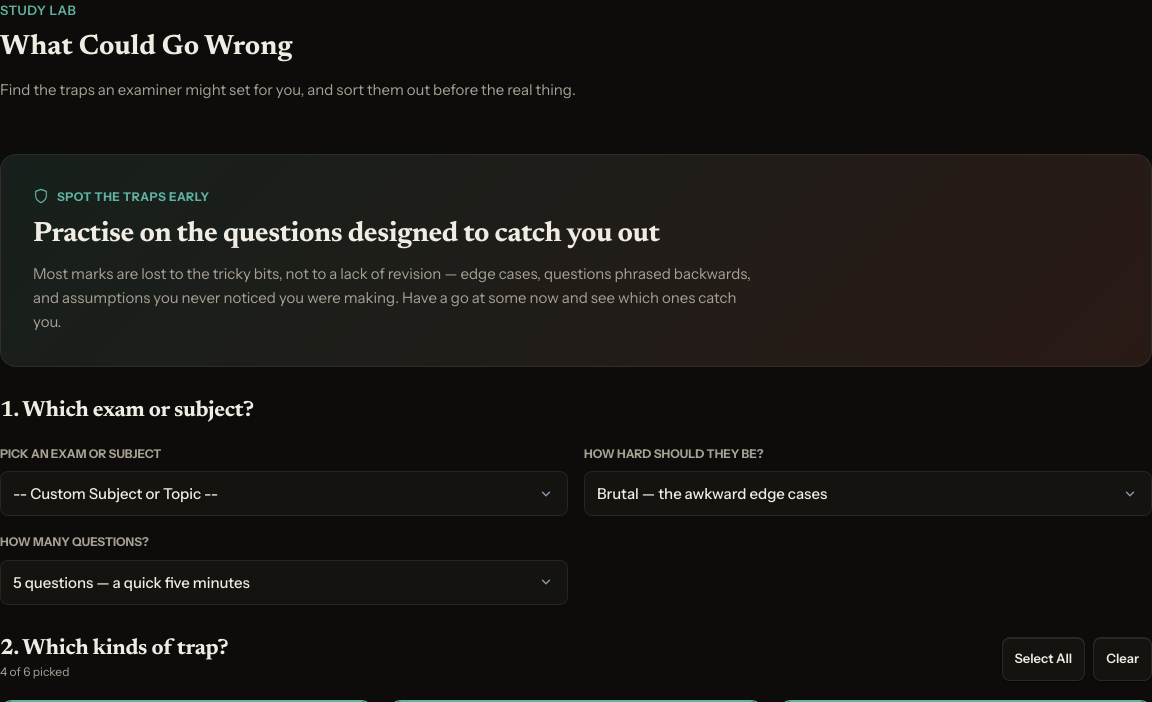
PreMortemHubView › allows toggling trap types, select all, and clear
// Click Clear
Click the button "Clear": (1123, 659) [1093,637,1151,681]
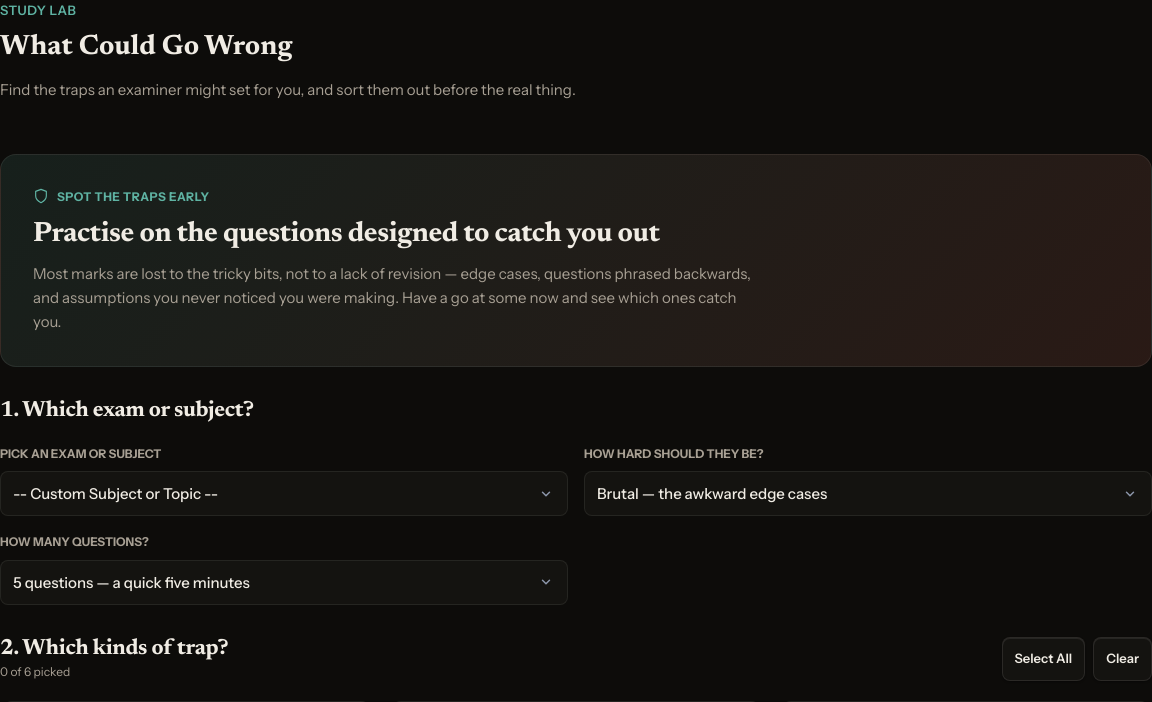
Expected: the text "0 of 6 picked" is shown, [0,664,70,679]
// Click Select All
Click the button "Select All": (1043, 659) [1002,637,1085,681]
(page scrolled)
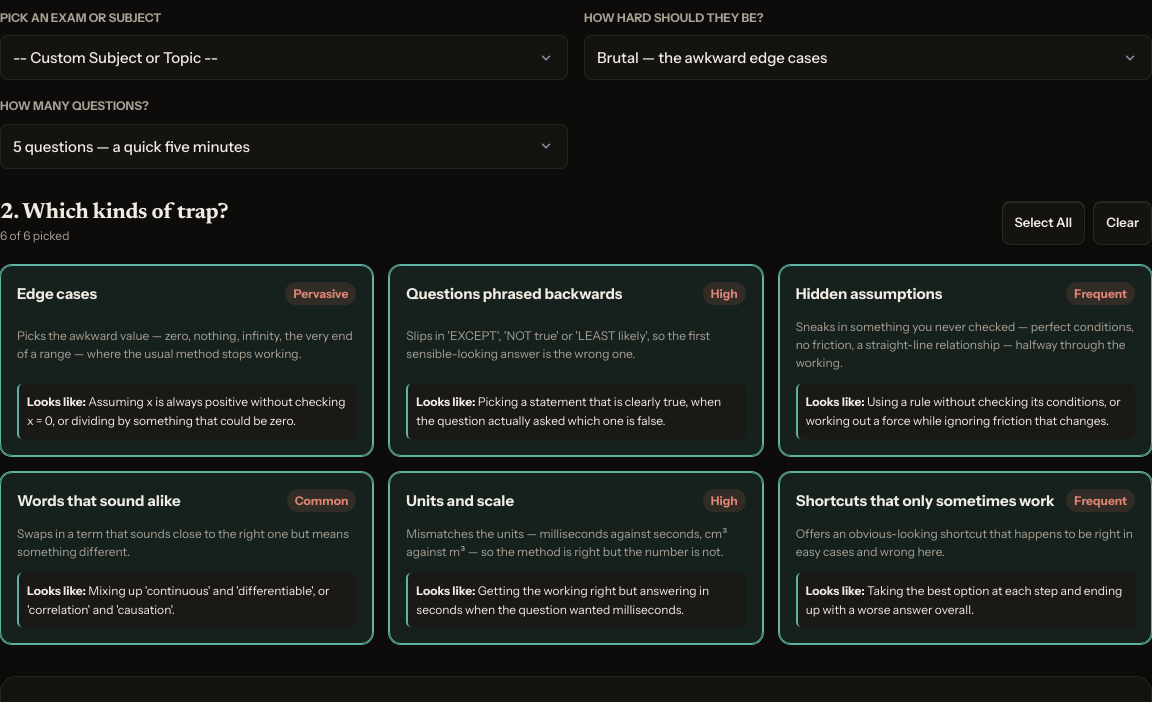
Expected: the text "6 of 6 picked" is shown, [0,228,69,243]
Click the checkbox "Edge cases": (187, 360) [0,265,373,456]
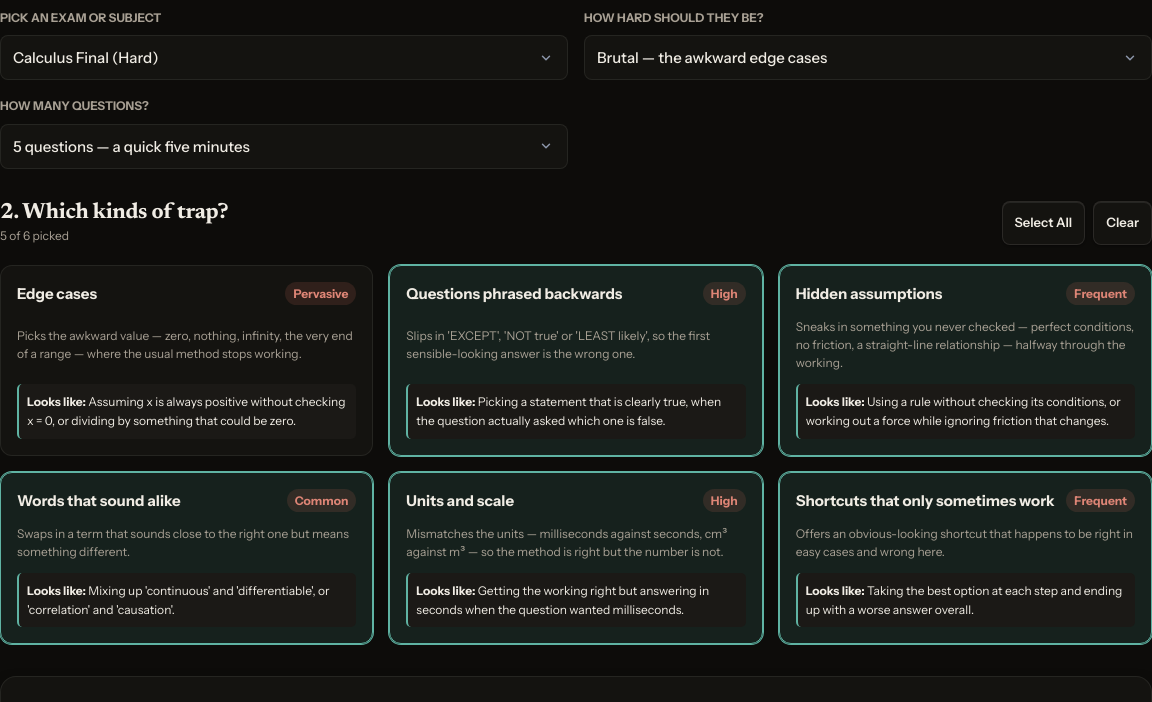
Expected: the text "5 of 6 picked" is shown, [0,228,69,243]
